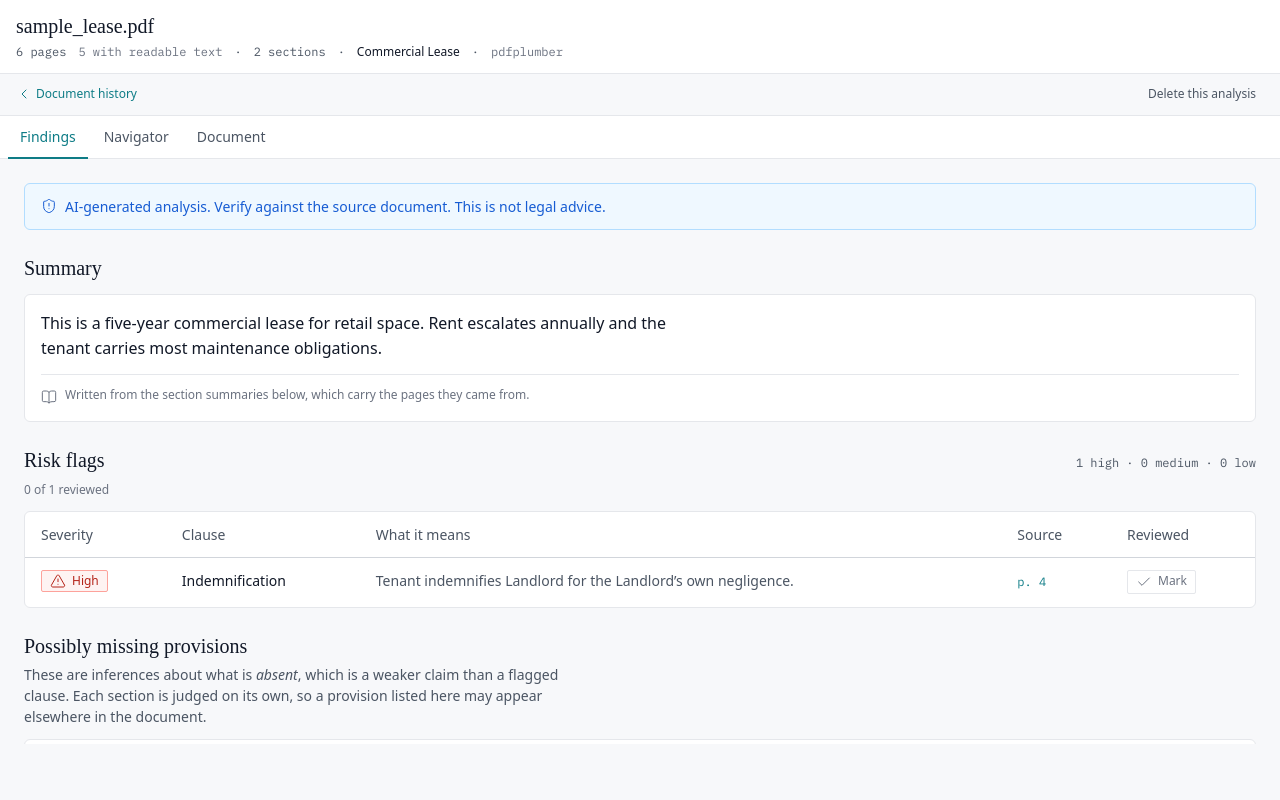
Test: a stored analysis › returns to the history list after a successful delete
What coordinates should you click on to do the following:
click the button "Delete this analysis"
I would click on:
 (1202, 94)
Its box is [1140,82,1264,107].
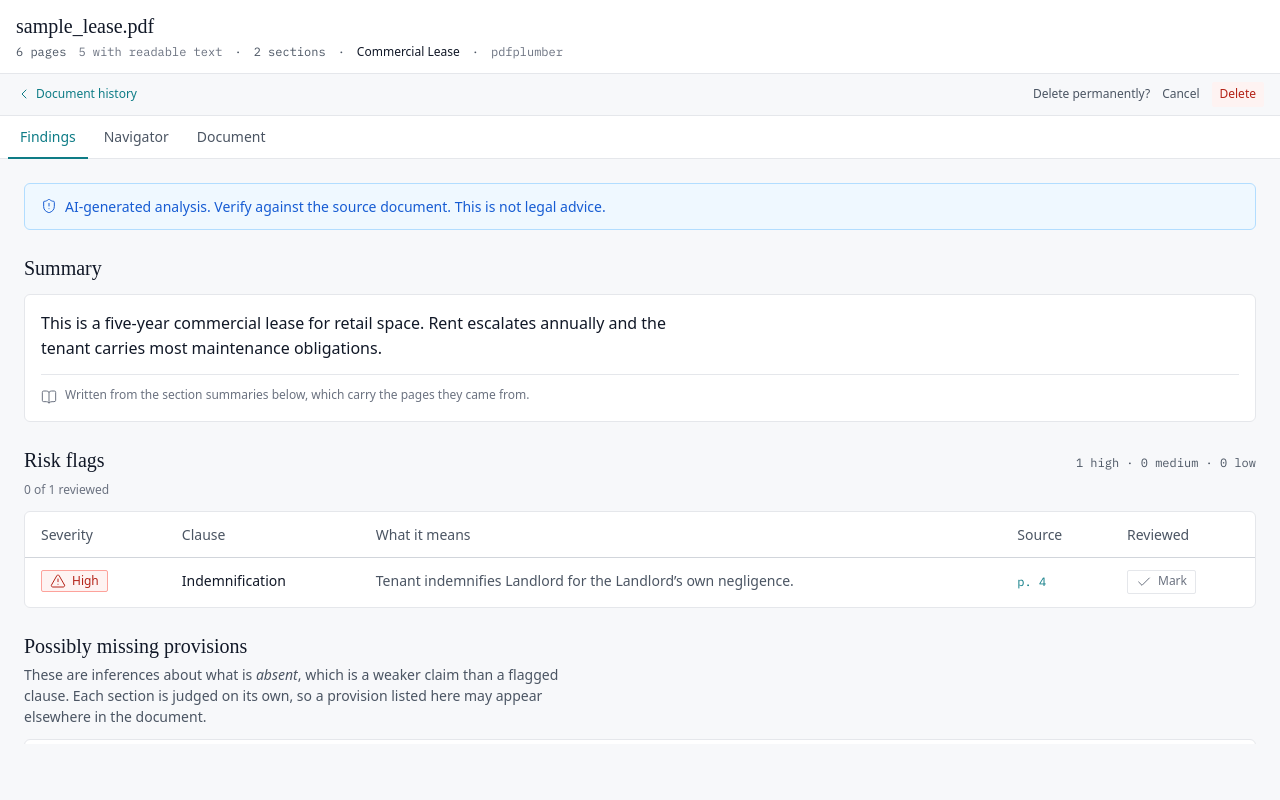
What coordinates should you click on to do the following:
click the button "Delete"
I would click on:
 (1238, 94)
Its box is [1212,82,1264,107].
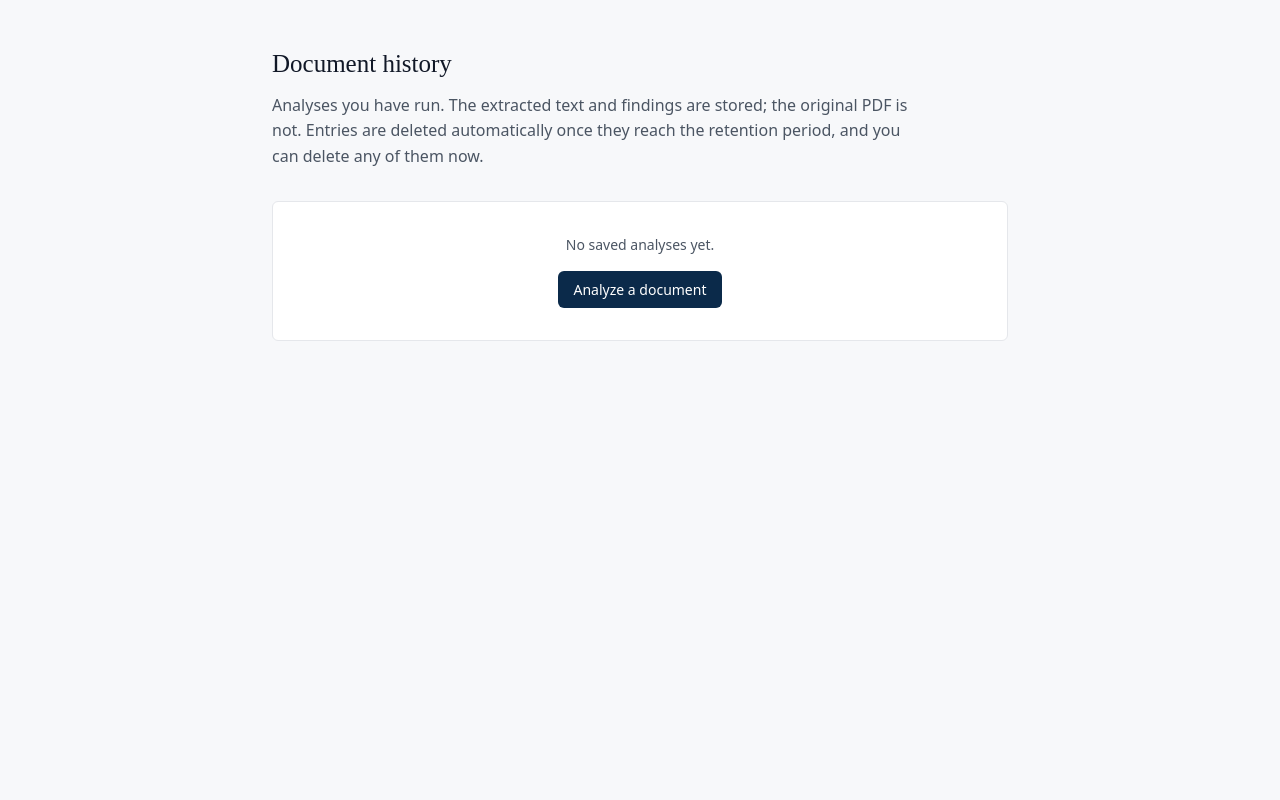
expect the text "No saved analyses yet." is shown: met, box [566,235,714,254]
